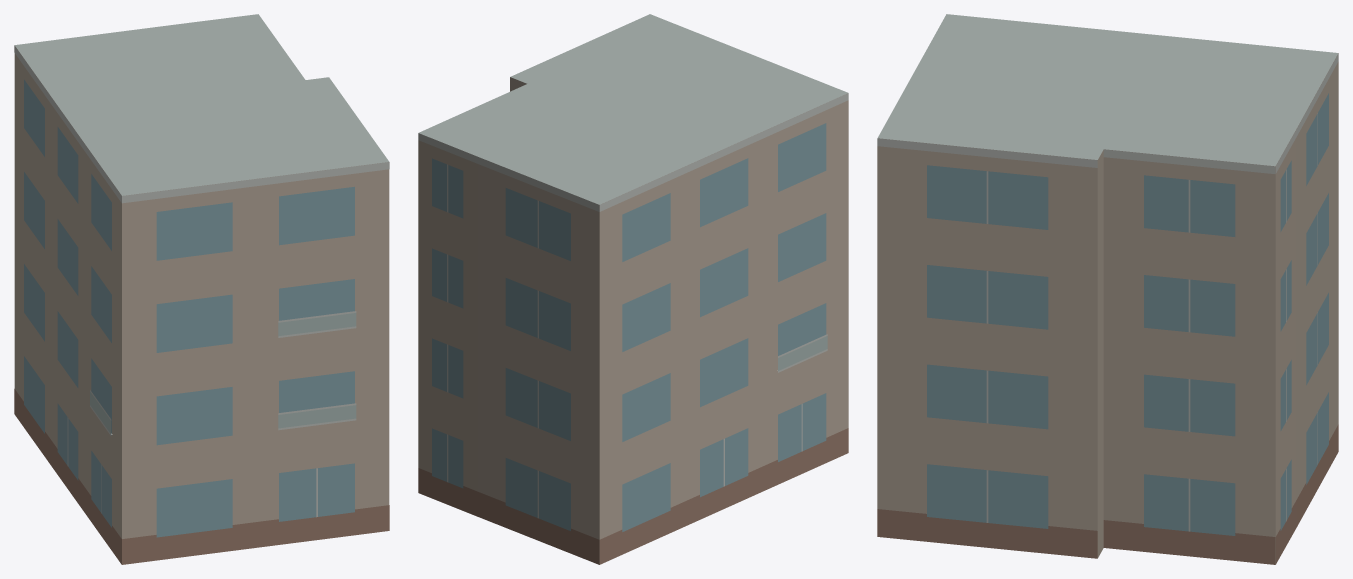
The model's file is residential-0ec0935d-a68b-4963-8703-4dc82a9c367b.glb.
The picture shows the model from 3 angles, left to right: view 1: azimuth 30°, elevation 25°; view 2: azimuth 150°, elevation 25°; view 3: azimuth 270°, elevation 25°; orthographic projection. The views are drawn at different scales.
Visible parts, largest first — view 1: residential-0ec0935d-a68b-4963-8703-4dc82a9c367b.tmp; view 2: residential-0ec0935d-a68b-4963-8703-4dc82a9c367b.tmp; view 3: residential-0ec0935d-a68b-4963-8703-4dc82a9c367b.tmp.
Boxes of the visible parts, bbox=[...] form: residential-0ec0935d-a68b-4963-8703-4dc82a9c367b.tmp: bbox=[14, 14, 389, 564]; residential-0ec0935d-a68b-4963-8703-4dc82a9c367b.tmp: bbox=[418, 14, 848, 564]; residential-0ec0935d-a68b-4963-8703-4dc82a9c367b.tmp: bbox=[877, 14, 1338, 564].
Size of the model in its own units: 10.01 by 12.2 by 12.8.
